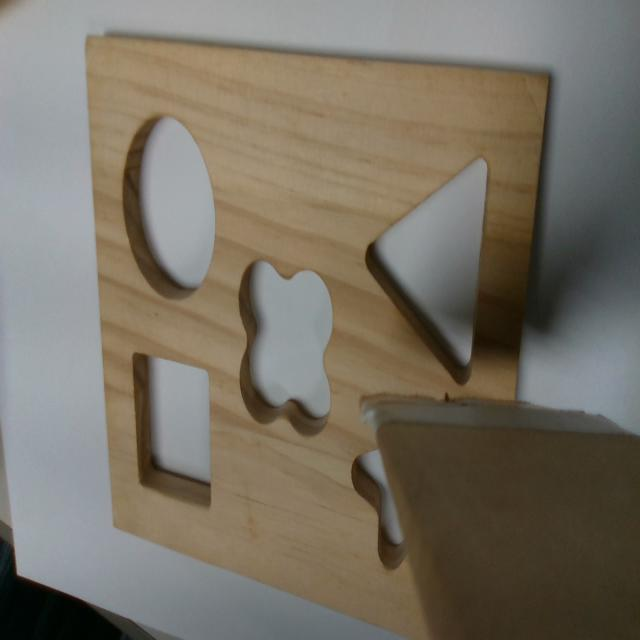circle: (122, 116, 217, 298)
flower: (236, 261, 334, 437)
square: (132, 352, 212, 509)
star: (350, 447, 408, 564)
triangle: (363, 152, 493, 391)
